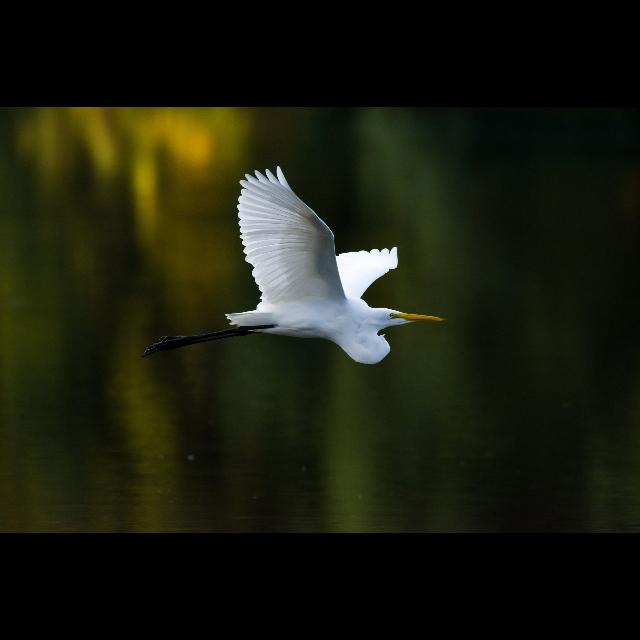egret: (144, 170, 446, 366)
